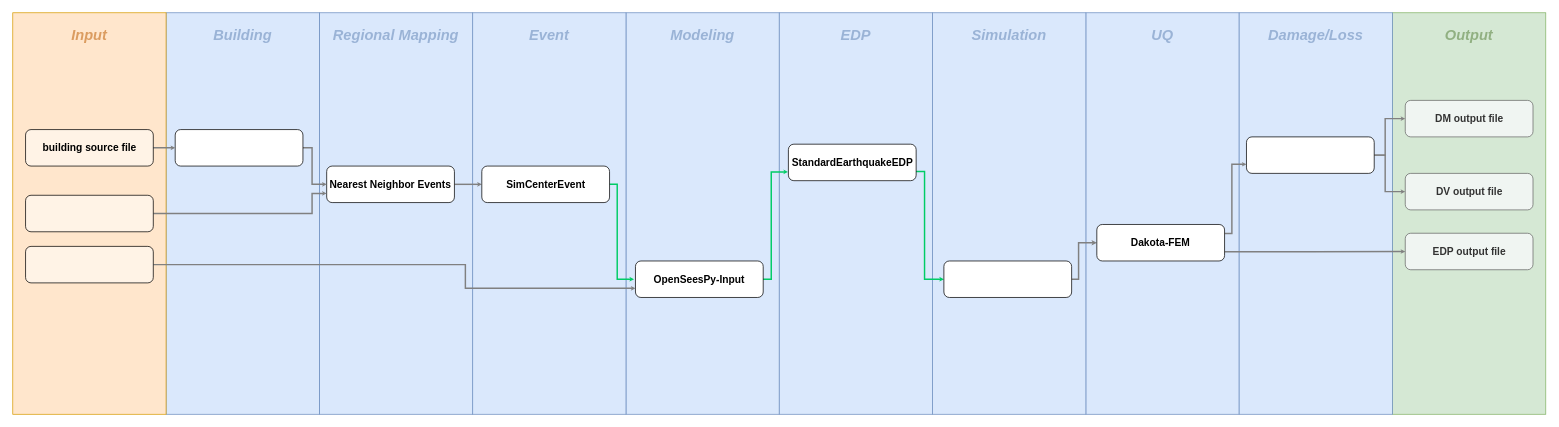
This 1559x427 diagram has some shape labels left out. Each missing label, with the box of its shape:
CSV_to_BIM: (174, 129, 303, 166)
event grid file: (25, 195, 153, 232)
model file: (25, 246, 153, 283)
OpenSeesPy-Simulation: (943, 260, 1072, 297)
pelicun: (1246, 136, 1374, 173)
